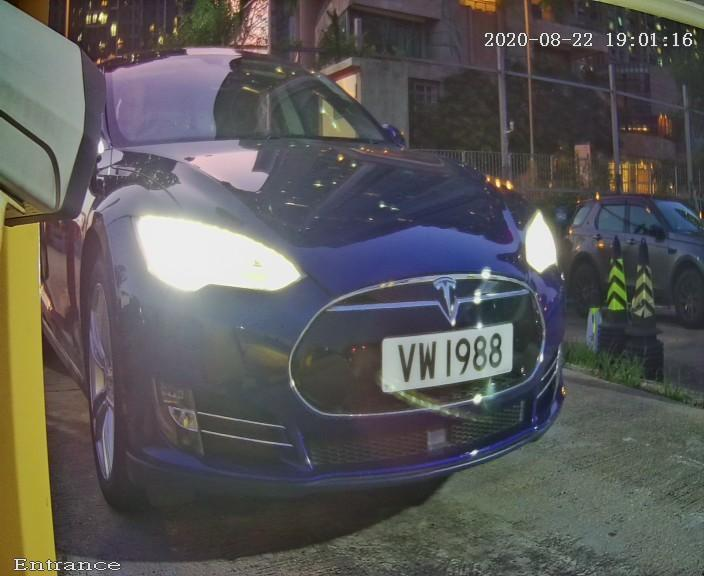Car: (35, 16, 613, 525)
License Plate: (365, 312, 530, 398)
